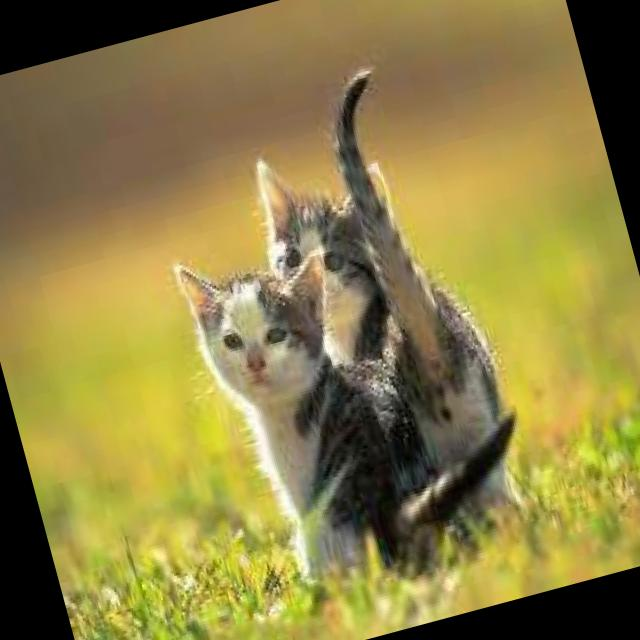animal: (172, 186, 548, 610)
